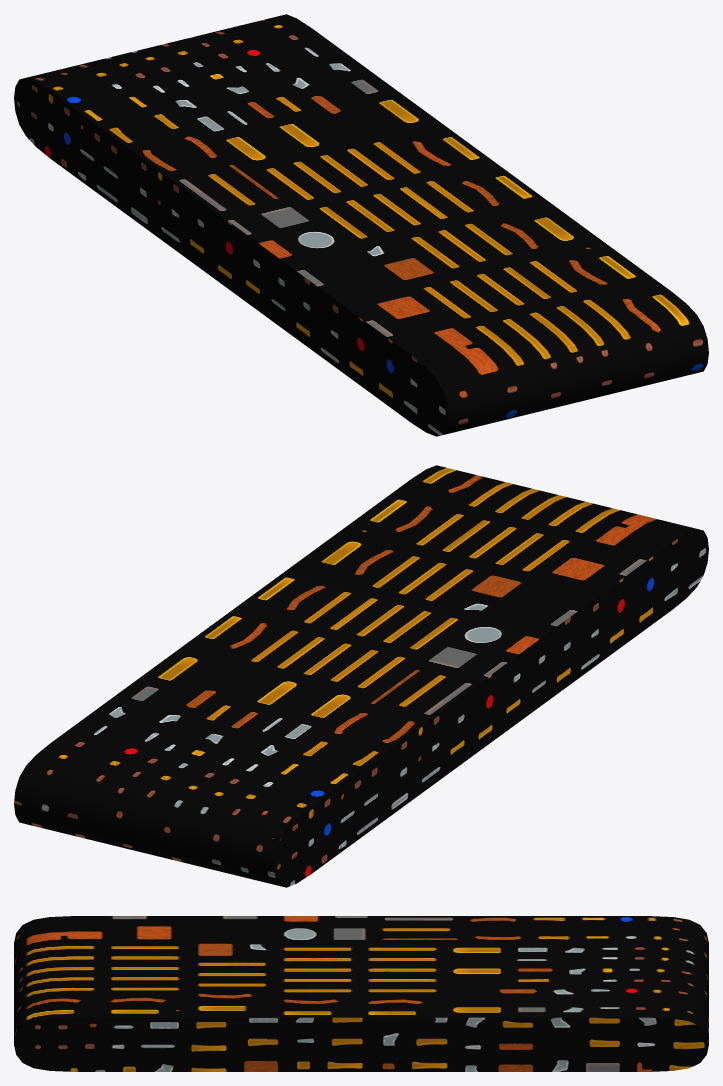
Rendered from Balista_Tartak_Kamieniolom 1.fbx.
3 views of the same model, one above another, from view 1: azimuth 30°, elevation 25°; view 2: azimuth 150°, elevation 25°; view 3: azimuth 270°, elevation 25° (orthographic). The views are drawn at different scales.
Visible parts, largest first — view 1: Cylinder.009_Baked; view 2: Cylinder.009_Baked; view 3: Cylinder.009_Baked.
Boxes of the visible parts, x1,y1,x2,y2 form: Cylinder.009_Baked: (14,14,708,436); Cylinder.009_Baked: (14,465,708,887); Cylinder.009_Baked: (14,916,708,1071).
Bounding box in the file's own units: 66.83 × 16.61 × 193.
Materials: 1 (1 with a texture image).
